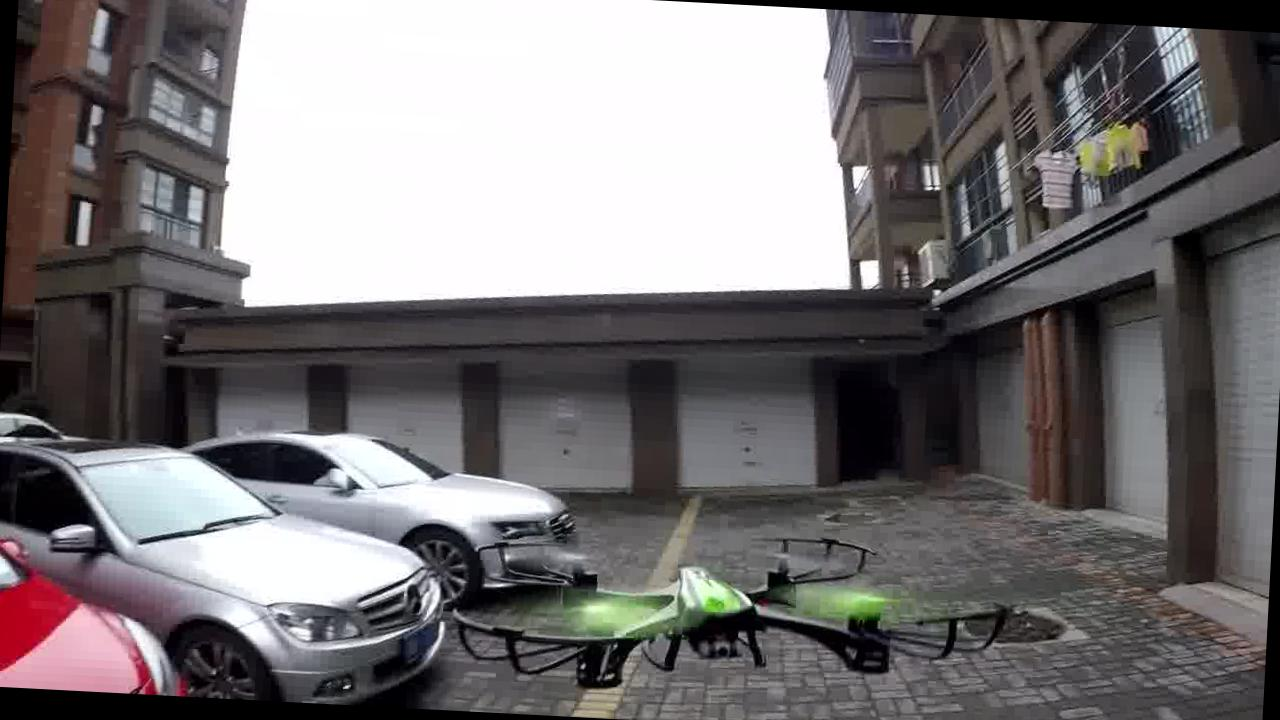drone: (428, 493, 1067, 719)
